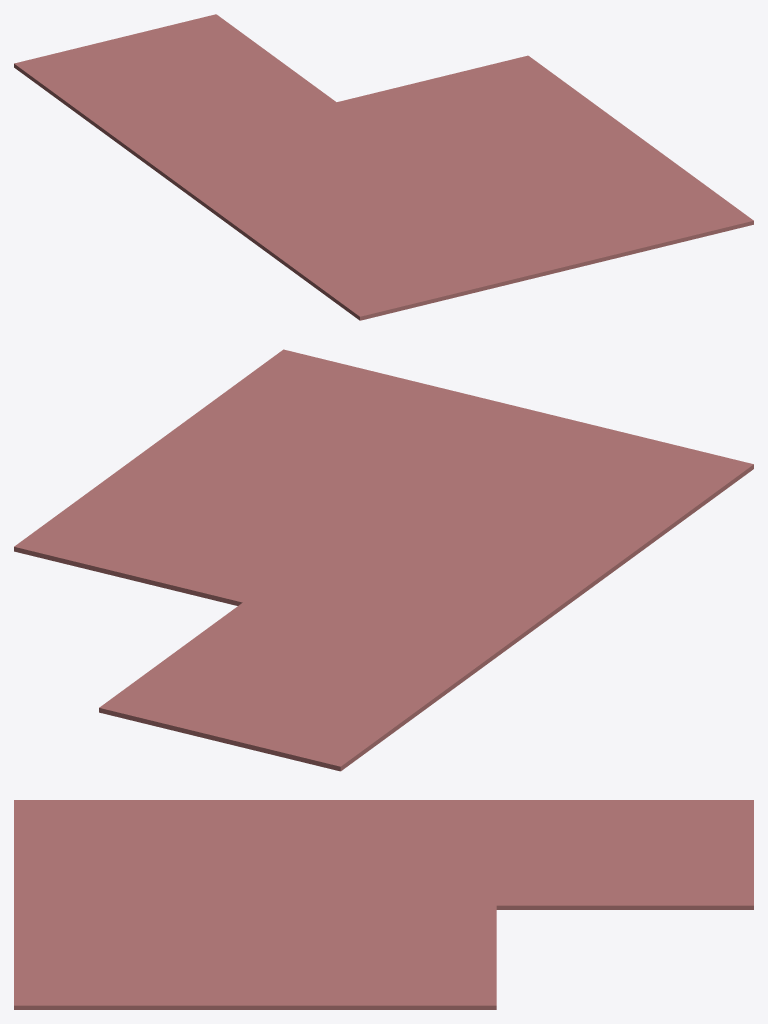
The picture shows the model from 3 angles, top to bottom: view 1: azimuth 30°, elevation 25°; view 2: azimuth 150°, elevation 25°; view 3: azimuth 270°, elevation 25°; orthographic projection. The views are drawn at different scales.
Size of the model in its own units: 5.14 by 0.05 by 7.82.
1 material, 1 textured.
